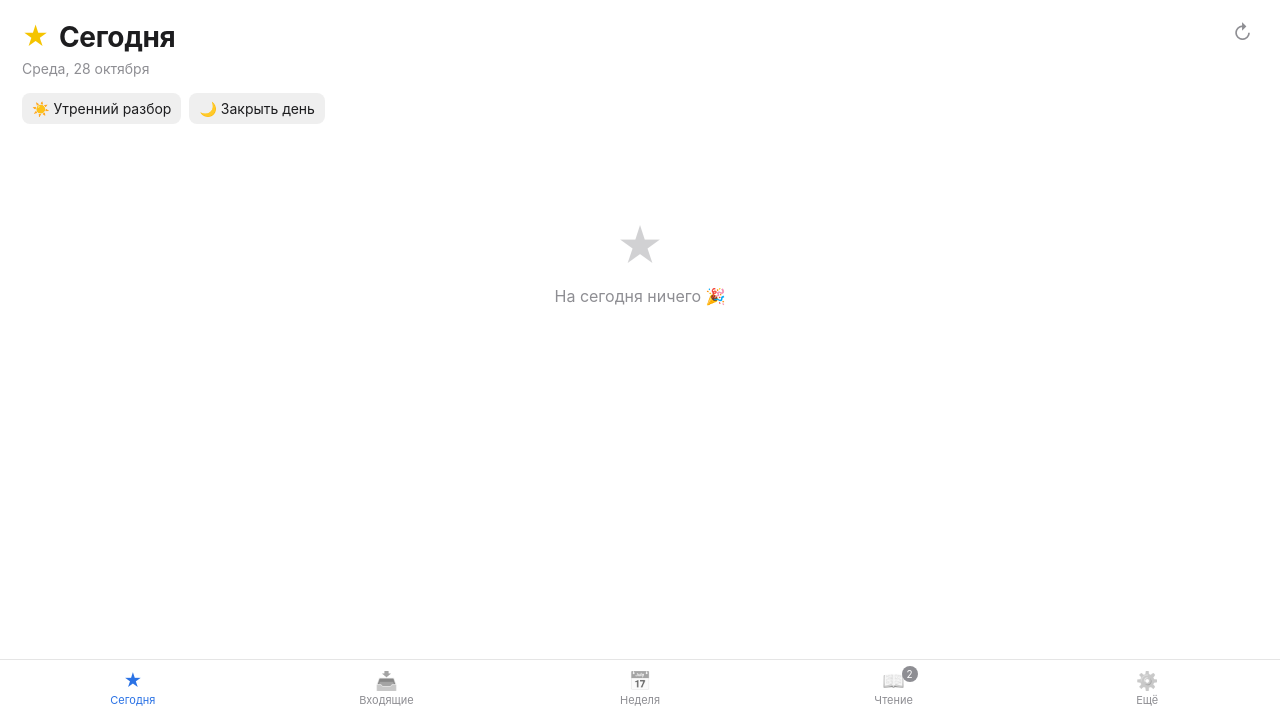
Test: Чтение › без сети материал читается из кэша
Click the tab "📖 Чтение 2": (894, 689) top-left (767, 666), bottom-right (1020, 712)
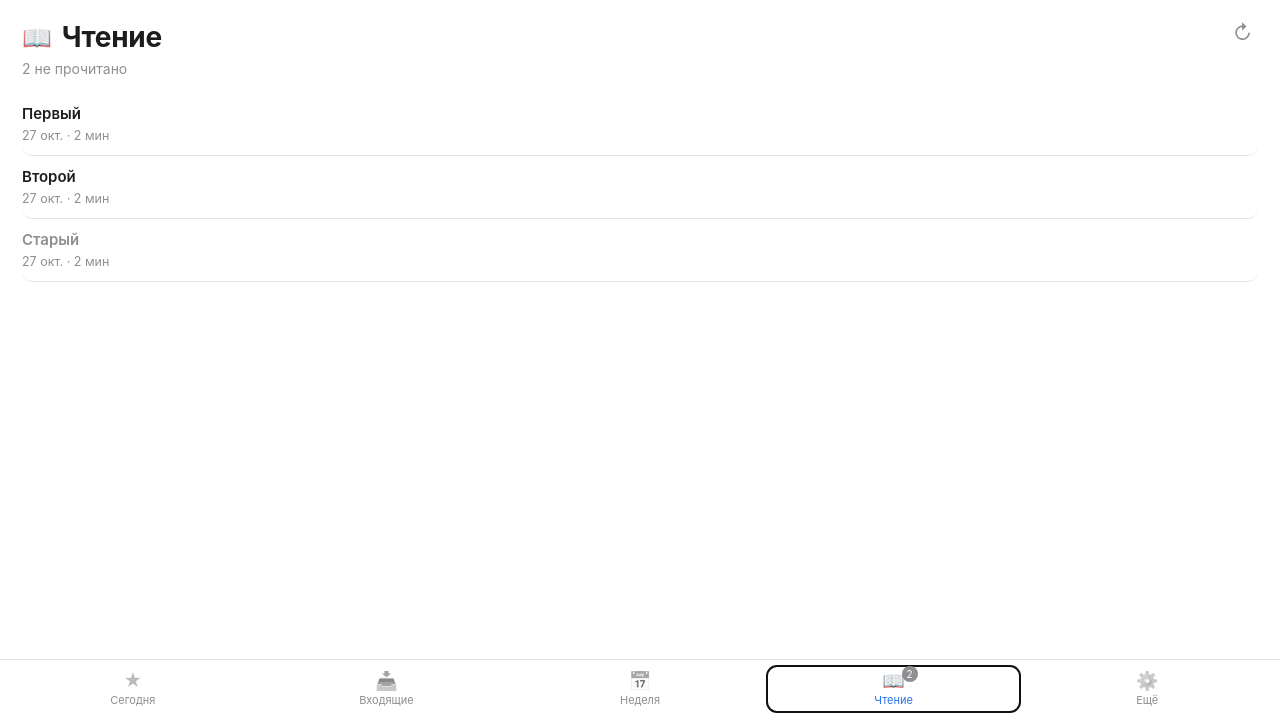
Click the text "Первый": (52, 113) top-left (22, 104), bottom-right (81, 123)
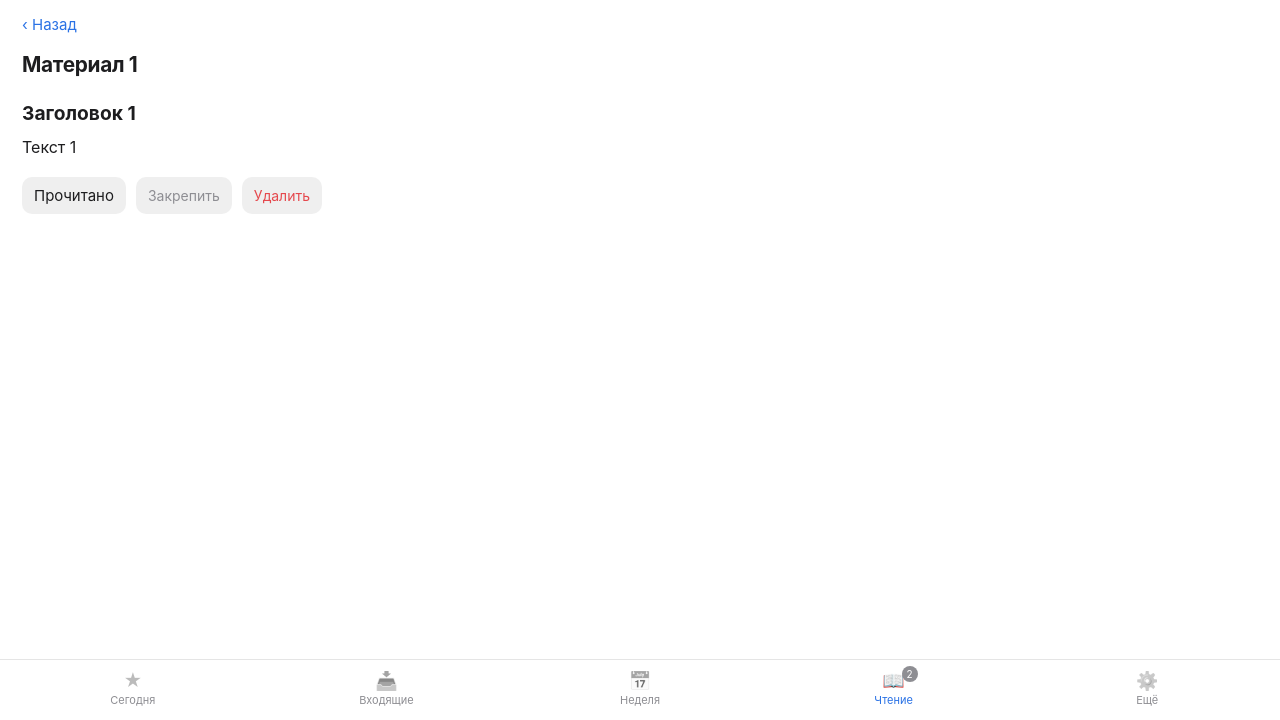
Expected: the heading "Заголовок 1" is shown, top-left (22, 101), bottom-right (136, 125)
Click the button "‹ Назад": (49, 24) top-left (22, 8), bottom-right (77, 41)
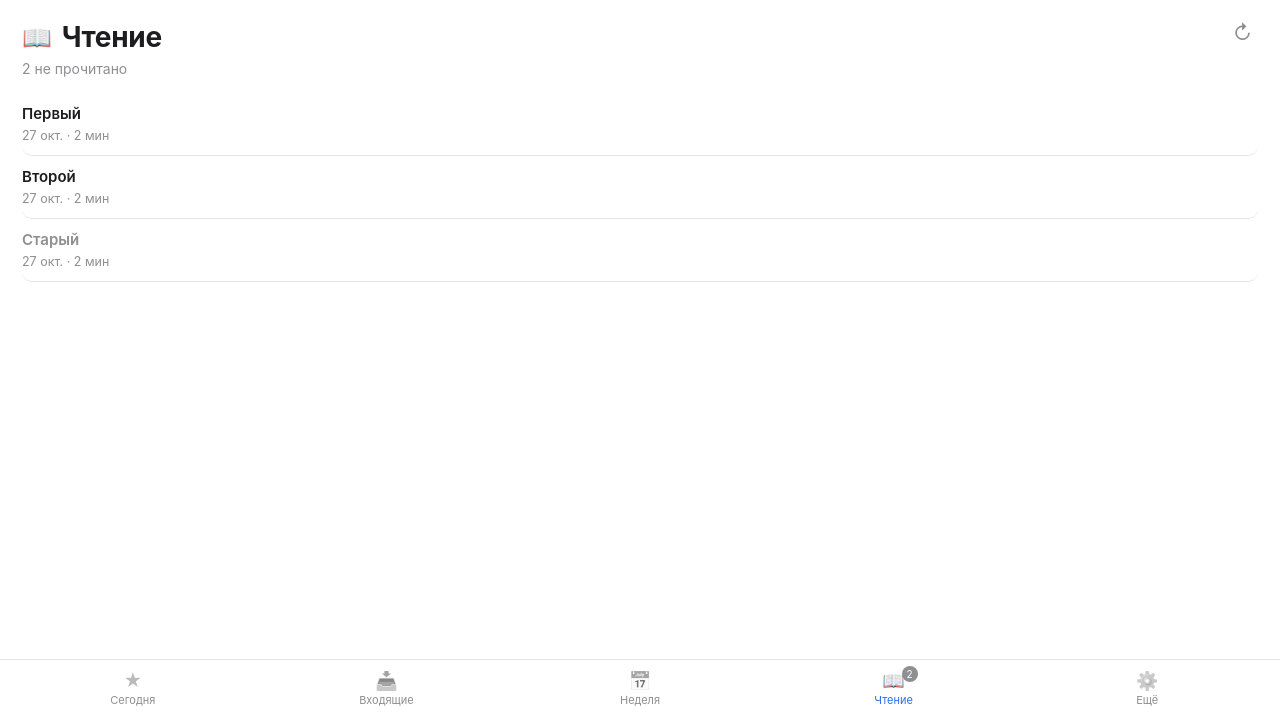
Click the button named "Обновить": (1242, 33) top-left (1227, 15), bottom-right (1258, 51)
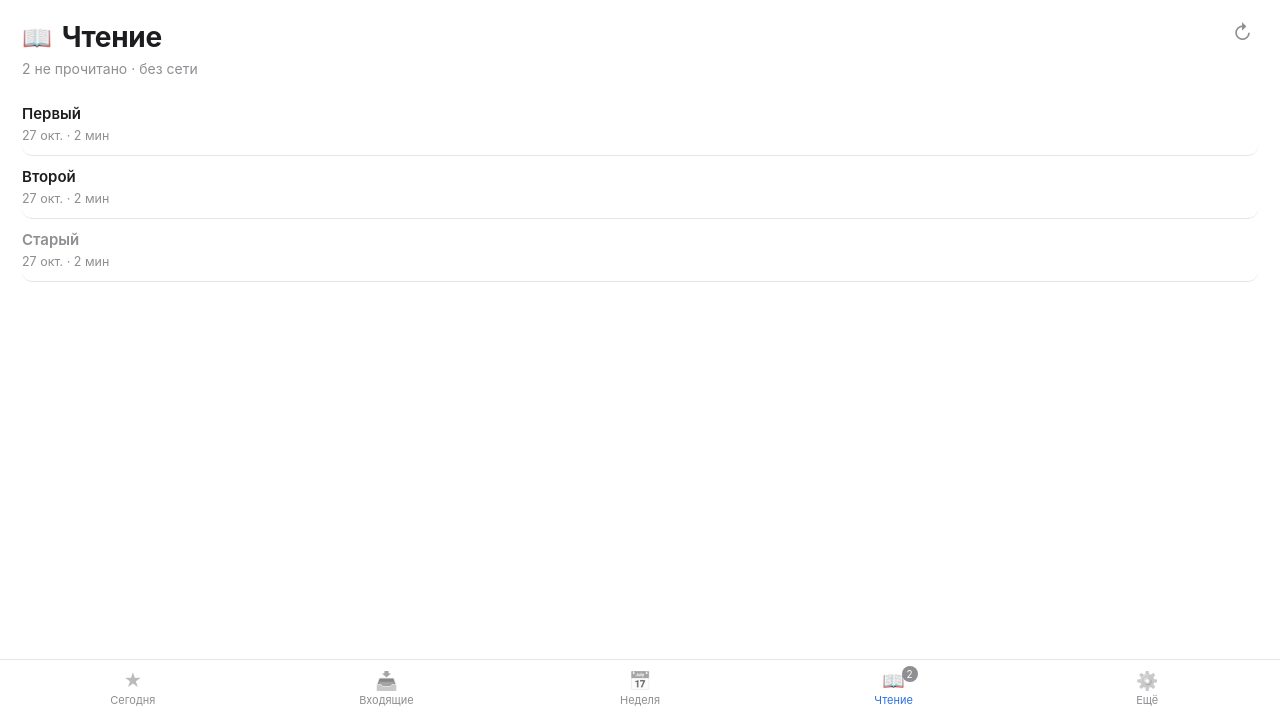
Expected: the text "2 не прочитано · без сети" is shown, top-left (22, 60), bottom-right (198, 77)
Click the text "Первый": (52, 113) top-left (22, 104), bottom-right (81, 123)
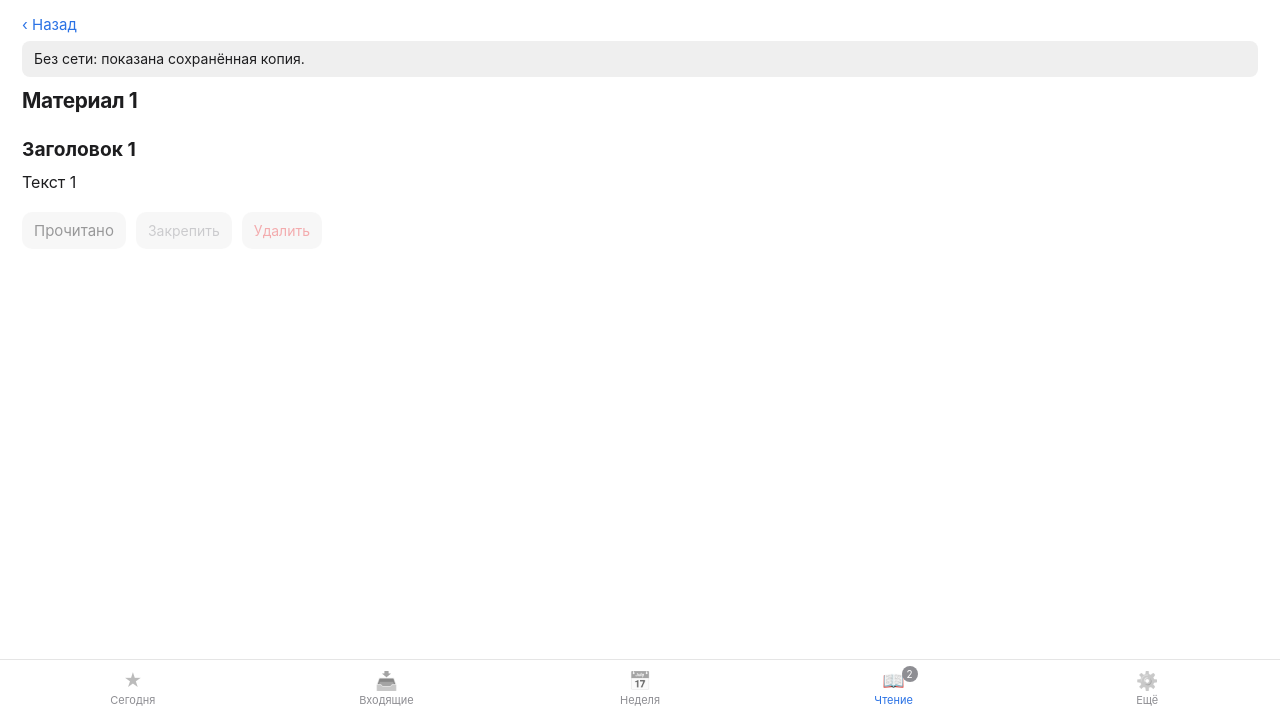
Expected: the text "Текст 1" is shown, top-left (22, 172), bottom-right (76, 192)
Expected: the text "Без сети: показана сохранённая копия." is shown, top-left (22, 41), bottom-right (1258, 77)
